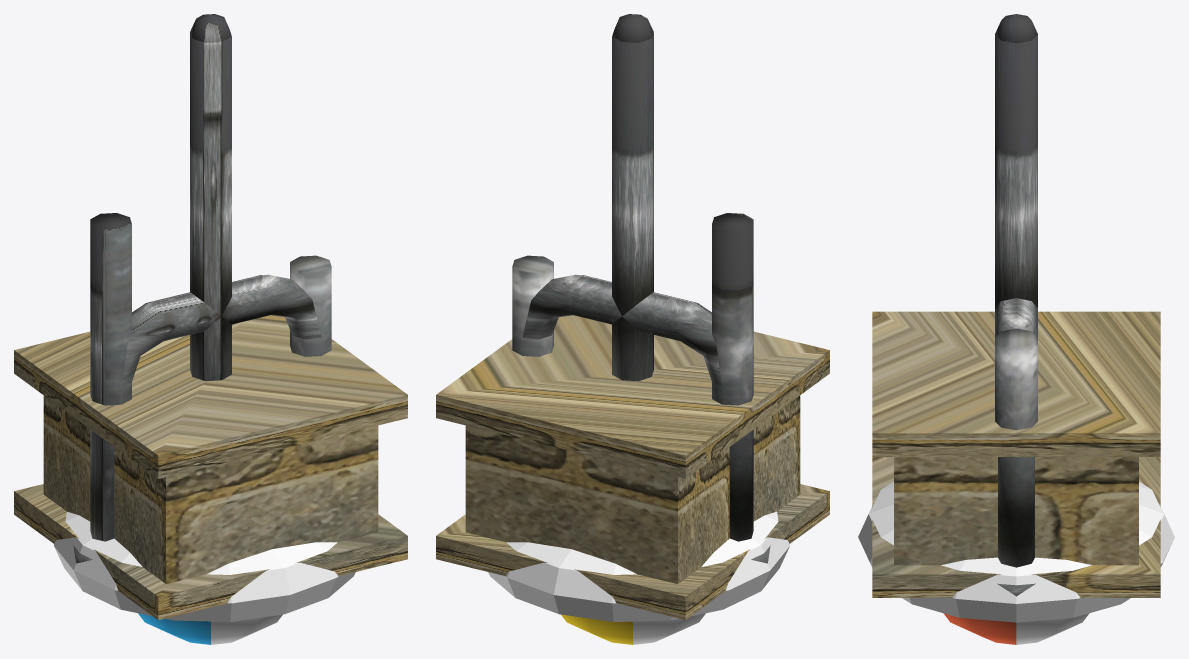
Rendered from props.glb.
The picture shows the model from 3 angles, left to right: view 1: azimuth 30°, elevation 25°; view 2: azimuth 150°, elevation 25°; view 3: azimuth 270°, elevation 25°; orthographic projection.
Parts seen in each view (by area): view 1: PR_plinth, PR_pipes, PR_ring, PR_ball; view 2: PR_plinth, PR_pipes, PR_ring, PR_ball; view 3: PR_plinth, PR_pipes, PR_ring, PR_ball.
Boxes of the visible parts, box(x1,y1,x2,y2) form: PR_plinth: box(14, 315, 407, 619); PR_pipes: box(73, 14, 331, 563); PR_ring: box(54, 511, 355, 621); PR_ball: box(138, 613, 282, 644); PR_plinth: box(436, 315, 829, 619); PR_pipes: box(512, 14, 770, 563); PR_ring: box(488, 511, 789, 621); PR_ball: box(561, 613, 705, 644); PR_plinth: box(872, 311, 1160, 597); PR_pipes: box(995, 14, 1037, 596); PR_ring: box(858, 481, 1174, 622); PR_ball: box(943, 613, 1089, 644).
Bounding box in the file's own units: 2.2 × 4.75 × 2.2.
Materials: 4 (4 with a texture image).
